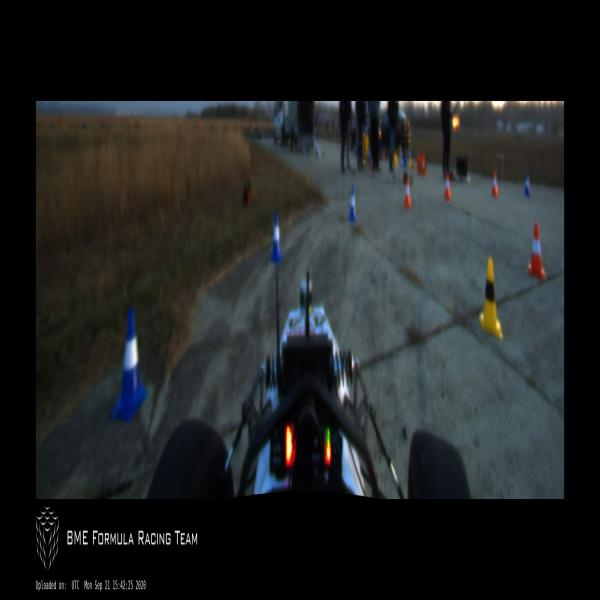blue_cone: (110, 308, 148, 423), (270, 211, 282, 264), (349, 185, 356, 222), (524, 173, 530, 198)
orange_cone: (528, 222, 546, 280), (404, 176, 412, 210), (444, 172, 451, 202), (492, 171, 498, 198)
yellow_cone: (478, 257, 502, 340)
